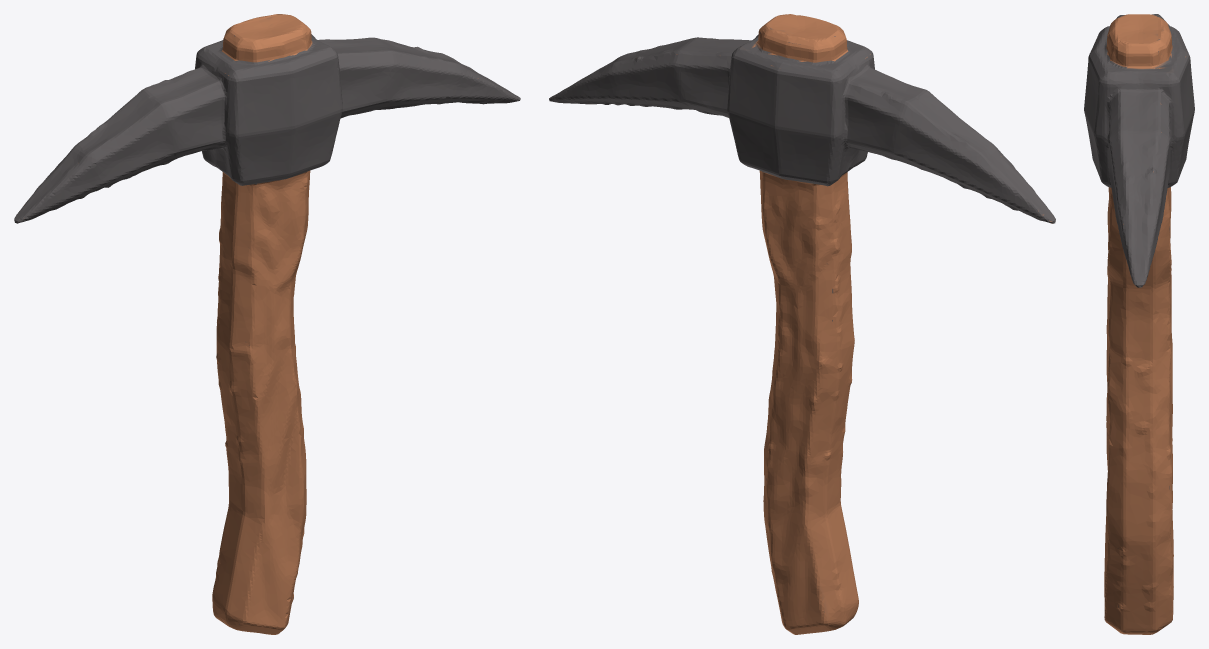
Rendered from Pickaxe.fbx.
3 renders of one model, left to right at view 1: azimuth 30°, elevation 25°; view 2: azimuth 150°, elevation 25°; view 3: azimuth 270°, elevation 25°, orthographic.
Parts seen in each view (by area): view 1: tmp_hh28vgm.ply; view 2: tmp_hh28vgm.ply; view 3: tmp_hh28vgm.ply.
Part boxes in pixels (<box>): tmp_hh28vgm.ply: <box>14,14,520,634</box>; tmp_hh28vgm.ply: <box>549,14,1055,634</box>; tmp_hh28vgm.ply: <box>1084,14,1194,634</box>.
Bounding box in the file's own units: 172 × 196 × 32.58.
Materials: 1 (1 with a texture image).
